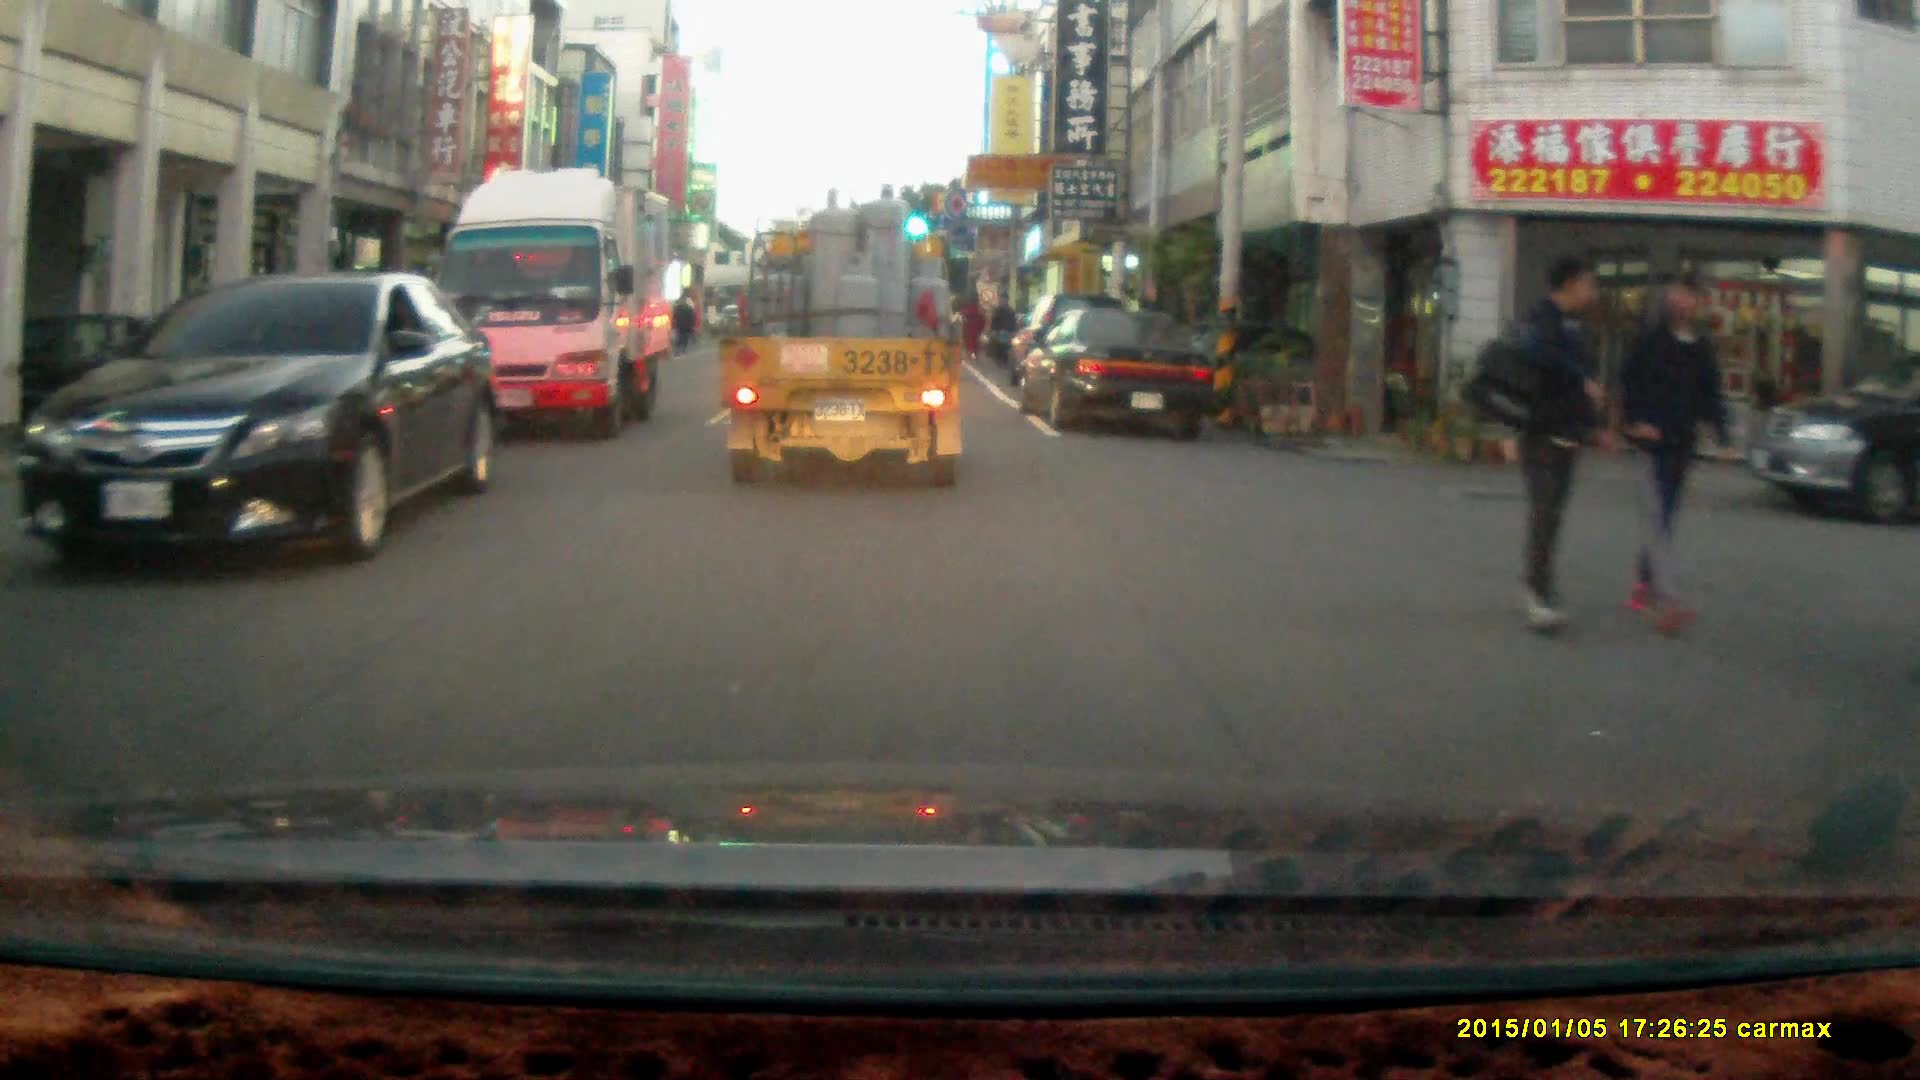pedestrian: (1611, 265, 1734, 640), (1503, 254, 1603, 634), (987, 288, 1017, 368), (961, 288, 988, 361), (666, 292, 695, 352)
vehicle: (14, 266, 489, 569), (726, 178, 968, 486), (433, 166, 674, 438), (1021, 307, 1220, 434)
